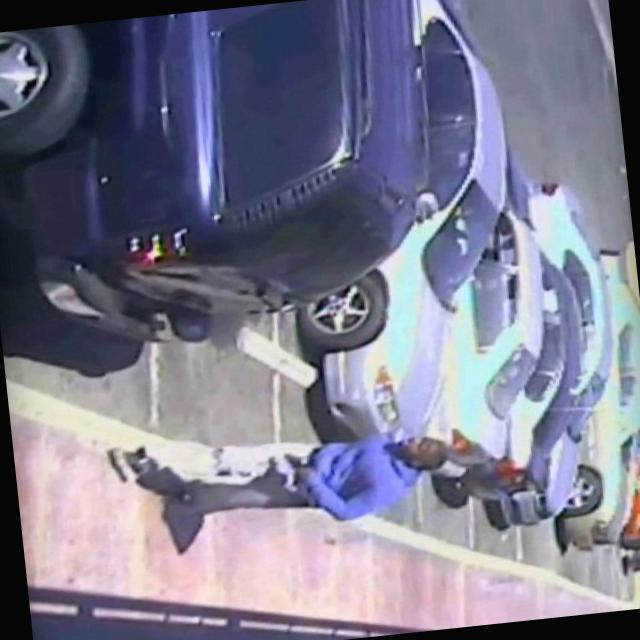handgun: (281, 442, 319, 485)
